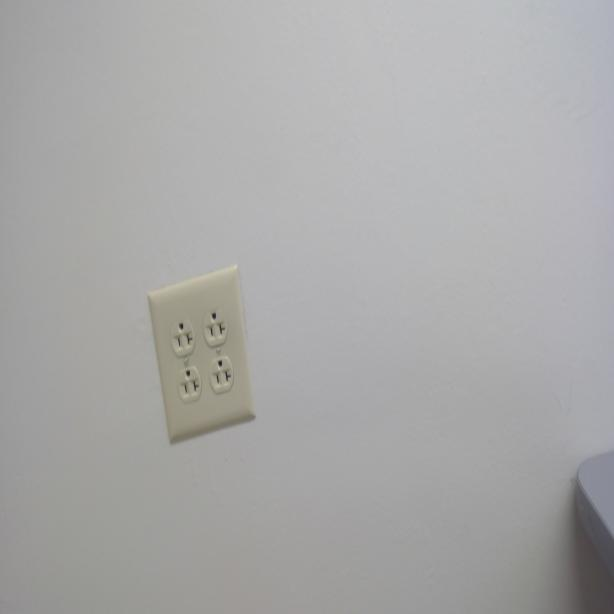typeb: (169, 316, 197, 357), (175, 369, 204, 405), (208, 354, 234, 393), (204, 311, 228, 345)
